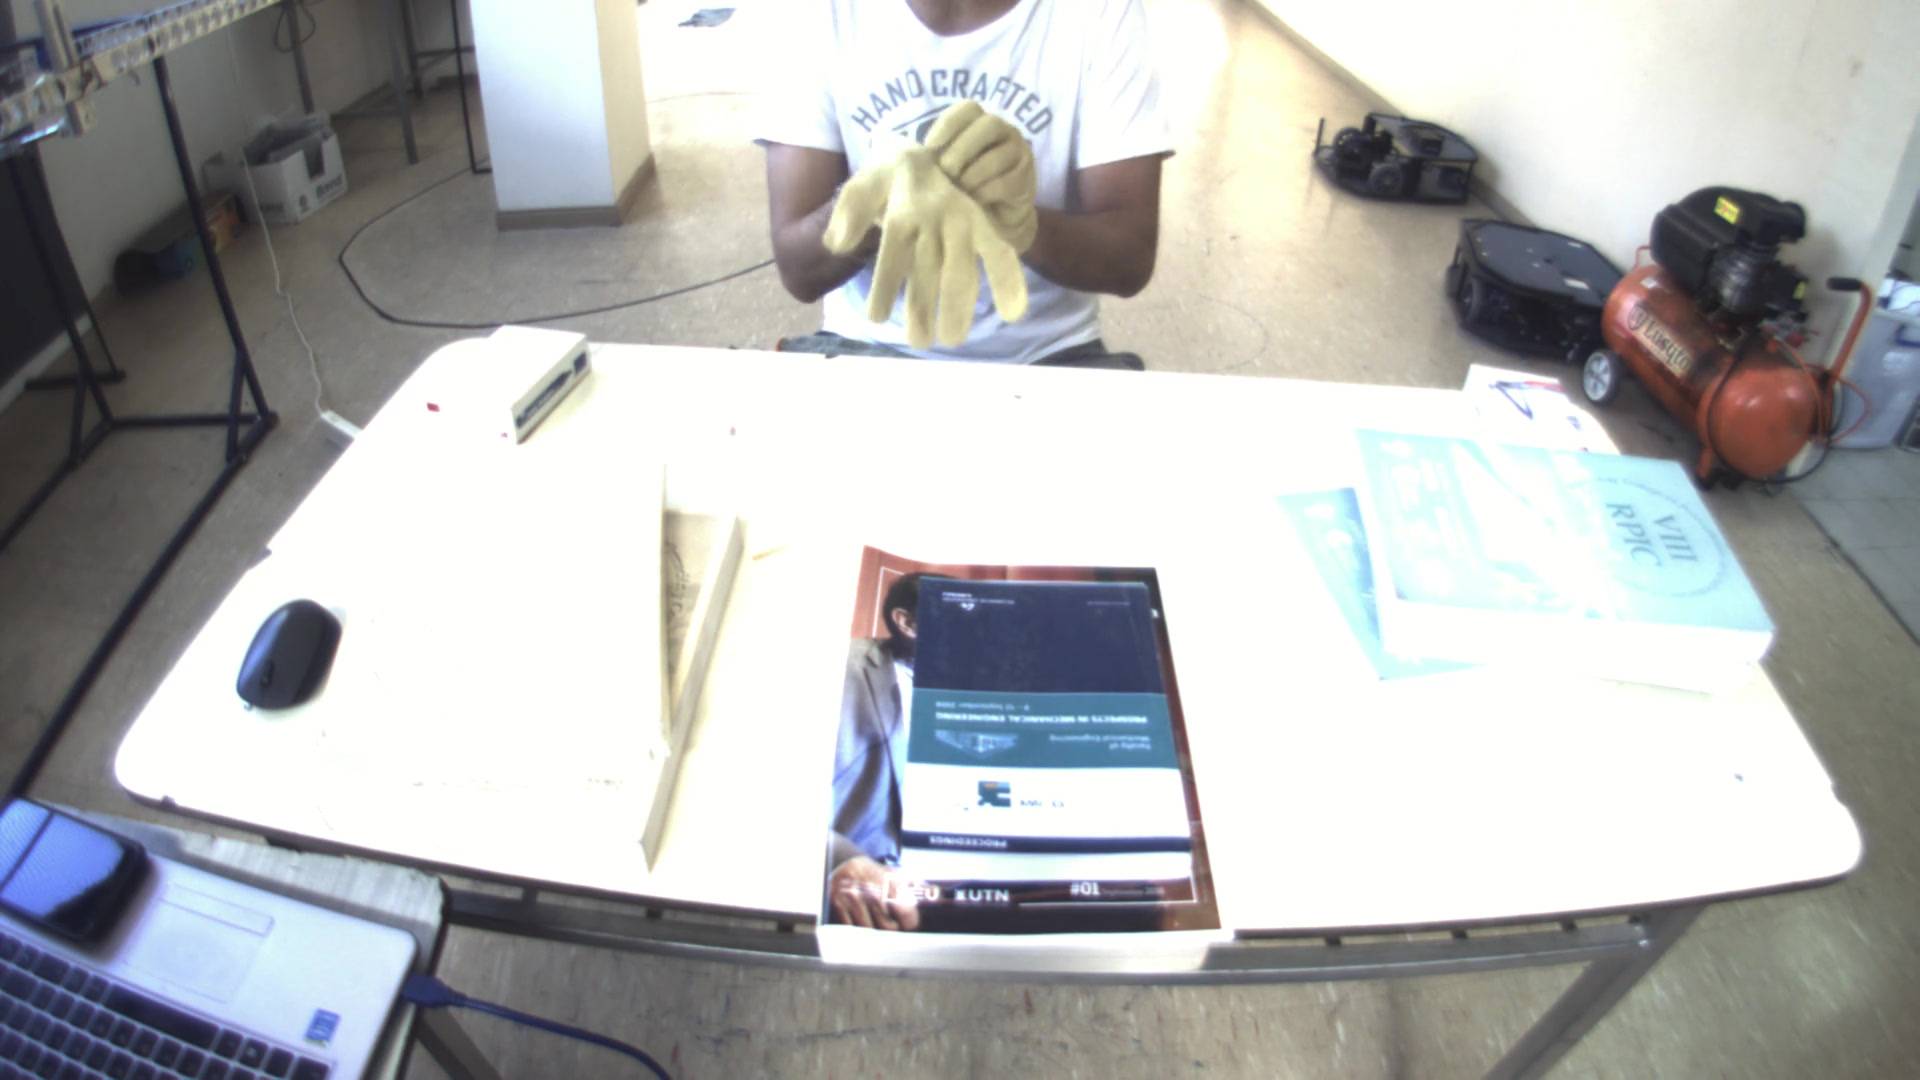hand: (914, 87, 1054, 243)
